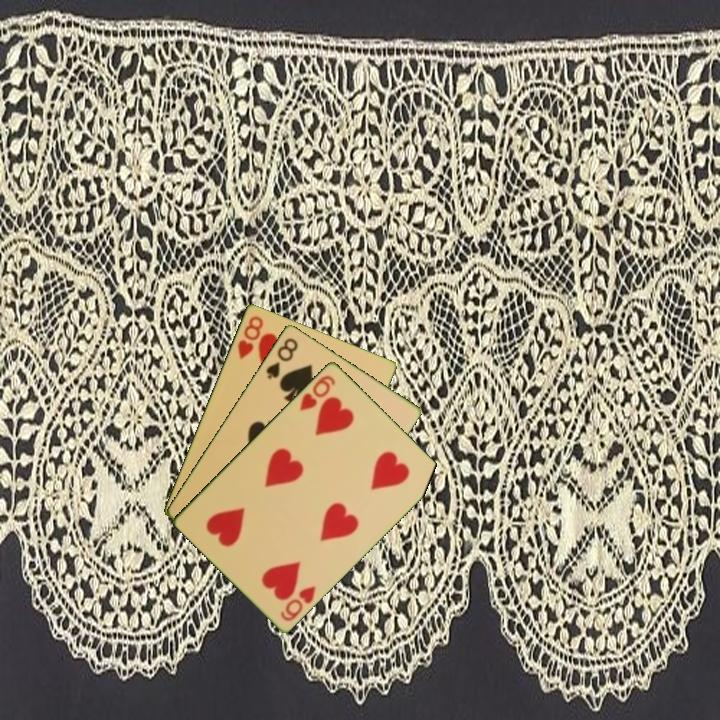6h: (296, 371, 338, 413), (277, 582, 319, 624)
8h: (234, 312, 266, 362)
8s: (262, 334, 301, 382)
